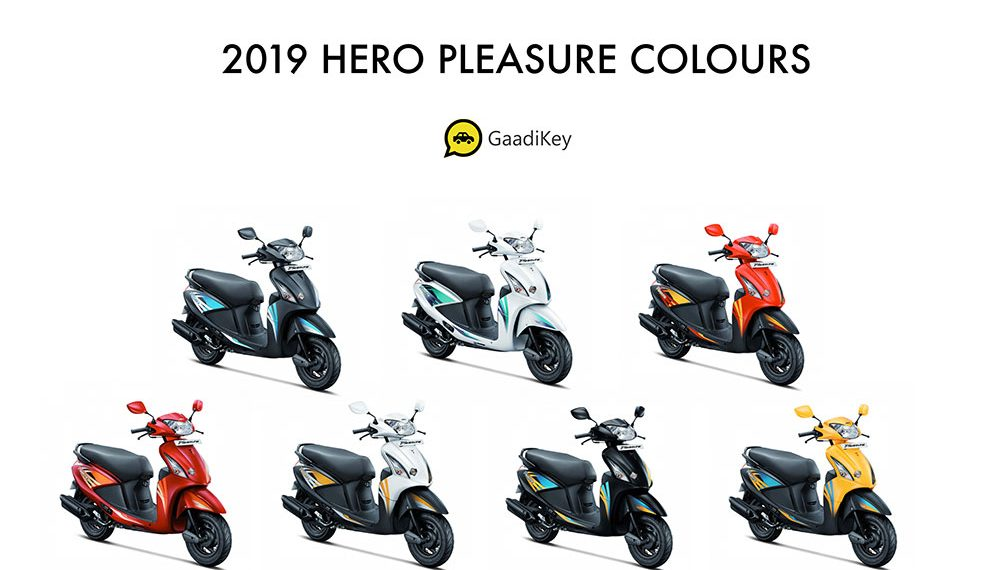bike: (388, 212, 576, 386), (631, 219, 810, 391), (273, 399, 453, 568), (171, 220, 345, 394), (723, 400, 899, 568), (58, 397, 231, 567), (499, 399, 673, 567)
